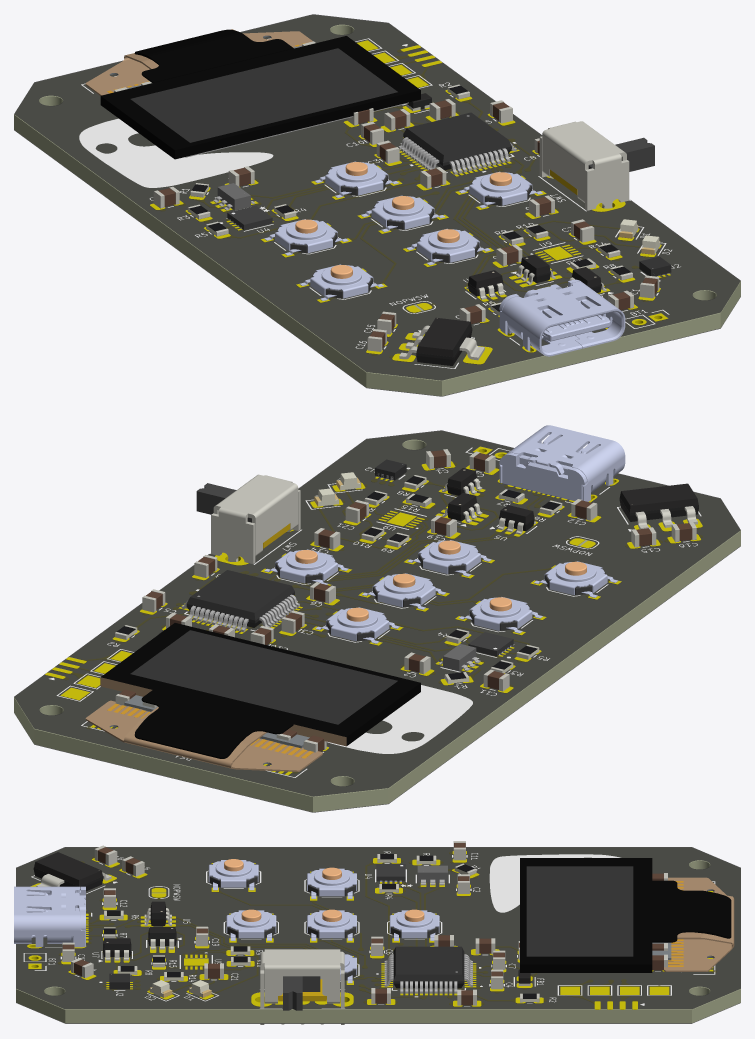
The model's file is STM32 2MB Cold Wallet.glb.
3 views of the same model, one above another, from view 1: azimuth 30°, elevation 25°; view 2: azimuth 150°, elevation 25°; view 3: azimuth 270°, elevation 25° (orthographic). The views are drawn at different scales.
Visible parts, largest first — view 1: =>[0:1:1:32], =>[0:1:1:34], =>[0:1:1:17], =>[0:1:1:13] (×6), =>[0:1:1:31], =>[0:1:1:30], =>[0:1:1:9], =>[0:1:1:23], =>[0:1:1:3], =>[0:1:1:27], =>[0:1:1:7] (×2), =>[0:1:1:33] (+2 smaller); view 2: =>[0:1:1:32], =>[0:1:1:34], =>[0:1:1:17], =>[0:1:1:13] (×6), =>[0:1:1:30], =>[0:1:1:31], =>[0:1:1:9], =>[0:1:1:23], =>[0:1:1:3], =>[0:1:1:27], =>[0:1:1:7] (×3), =>[0:1:1:33] (+2 smaller); view 3: =>[0:1:1:32], =>[0:1:1:34], =>[0:1:1:17], =>[0:1:1:13] (×6), =>[0:1:1:30], =>[0:1:1:23], =>[0:1:1:31], =>[0:1:1:9], =>[0:1:1:3], =>[0:1:1:5] (×7), =>[0:1:1:27], =>[0:1:1:7] (×3) (+4 smaller).
Part boxes in pixels (left/top/right/bottom): =>[0:1:1:32]: left=14, top=14, right=740, bottom=380; =>[0:1:1:34]: left=14, top=15, right=740, bottom=396; =>[0:1:1:17]: left=85, top=29, right=420, bottom=159; =>[0:1:1:13] (×6): left=264, top=161, right=542, bottom=300; =>[0:1:1:31]: left=79, top=38, right=680, bottom=368; =>[0:1:1:30]: left=150, top=40, right=670, bottom=364; =>[0:1:1:9]: left=499, top=279, right=625, bottom=356; =>[0:1:1:23]: left=539, top=121, right=654, bottom=210; =>[0:1:1:3]: left=398, top=112, right=516, bottom=174; =>[0:1:1:27]: left=399, top=317, right=484, bottom=365; =>[0:1:1:7] (×2): left=466, top=254, right=555, bottom=299; =>[0:1:1:33]: left=14, top=130, right=740, bottom=396; =>[0:1:1:32]: left=14, top=430, right=740, bottom=796; =>[0:1:1:34]: left=14, top=431, right=740, bottom=812; =>[0:1:1:17]: left=85, top=623, right=420, bottom=771; =>[0:1:1:13] (×6): left=264, top=540, right=617, bottom=643; =>[0:1:1:30]: left=45, top=446, right=702, bottom=775; =>[0:1:1:31]: left=49, top=447, right=701, bottom=777; =>[0:1:1:9]: left=499, top=425, right=625, bottom=501; =>[0:1:1:23]: left=196, top=474, right=300, bottom=563; =>[0:1:1:3]: left=181, top=570, right=299, bottom=632; =>[0:1:1:27]: left=619, top=483, right=698, bottom=529; =>[0:1:1:7] (×3): left=442, top=468, right=535, bottom=534; =>[0:1:1:33]: left=14, top=546, right=740, bottom=812; =>[0:1:1:32]: left=16, top=847, right=740, bottom=1009; =>[0:1:1:34]: left=16, top=848, right=740, bottom=1023; =>[0:1:1:17]: left=520, top=858, right=734, bottom=972; =>[0:1:1:13] (×6): left=208, top=859, right=439, bottom=983; =>[0:1:1:30]: left=27, top=851, right=716, bottom=1009; =>[0:1:1:23]: left=260, top=949, right=344, bottom=1024; =>[0:1:1:31]: left=23, top=851, right=715, bottom=1008; =>[0:1:1:9]: left=14, top=886, right=85, bottom=947; =>[0:1:1:3]: left=384, top=946, right=472, bottom=993; =>[0:1:1:5] (×7): left=71, top=845, right=495, bottom=1005; =>[0:1:1:27]: left=33, top=852, right=111, bottom=891; =>[0:1:1:7] (×3): left=103, top=901, right=176, bottom=960.
Size of the model in its own units: 0.0429 by 0.0075 by 0.074.
